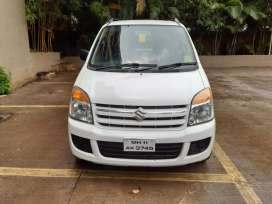license_plate: (124, 139, 155, 151)
